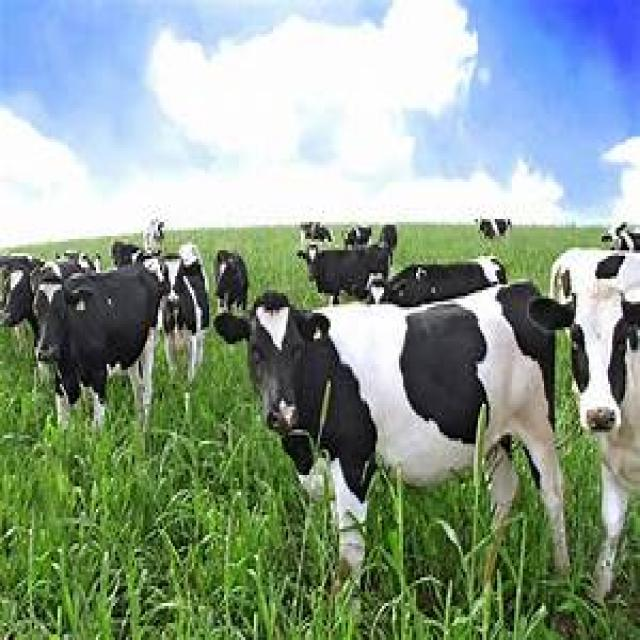cow: (218, 282, 571, 569), (550, 248, 640, 599), (35, 267, 161, 424), (142, 243, 210, 381), (366, 257, 505, 306), (301, 249, 391, 302), (0, 255, 38, 334), (216, 250, 248, 311)
